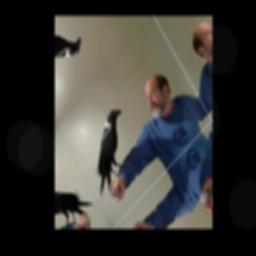Crow: (72, 101, 145, 200)
